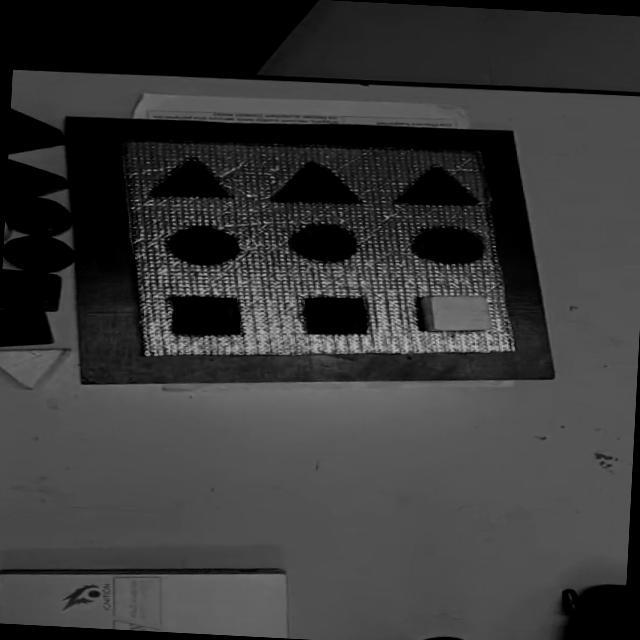bcircle: (2, 233, 76, 274)
bcube: (0, 305, 58, 350)
btriangle: (6, 158, 65, 202)
mtcircle: (166, 224, 243, 267), (412, 224, 486, 266), (286, 222, 358, 262)
mtcube: (167, 293, 246, 339), (300, 293, 372, 338)
mttriangle: (268, 158, 362, 206), (148, 155, 236, 201), (394, 164, 481, 209)
rcircle: (4, 196, 75, 236)
rcube: (0, 268, 63, 312)
rtriangle: (8, 106, 68, 160)
wb: (110, 132, 524, 375)
ycube: (418, 292, 496, 335)
ytriangle: (0, 344, 71, 391)
